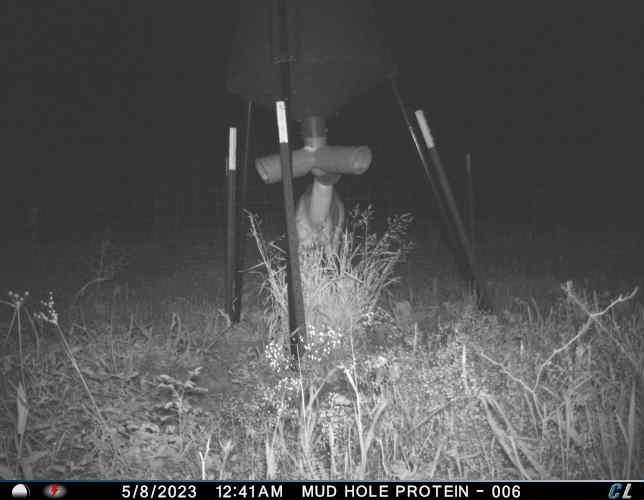Deer: (293, 181, 346, 265)
